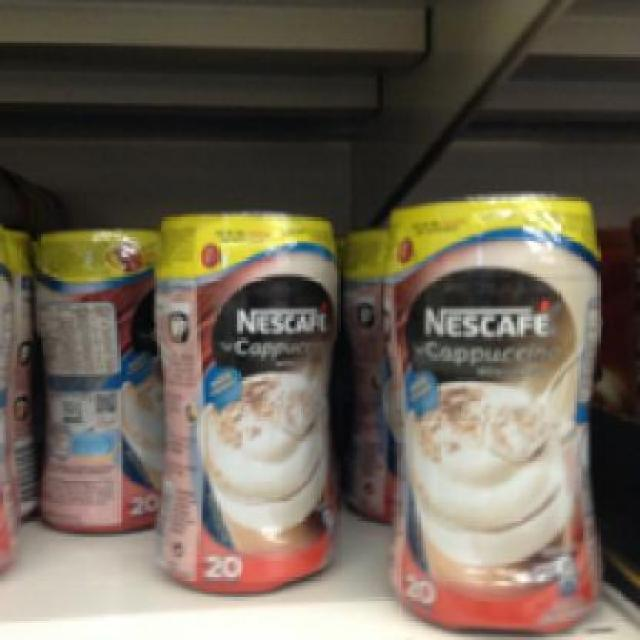Coffee: (377, 192, 606, 634), (151, 212, 340, 598), (32, 223, 152, 532)
